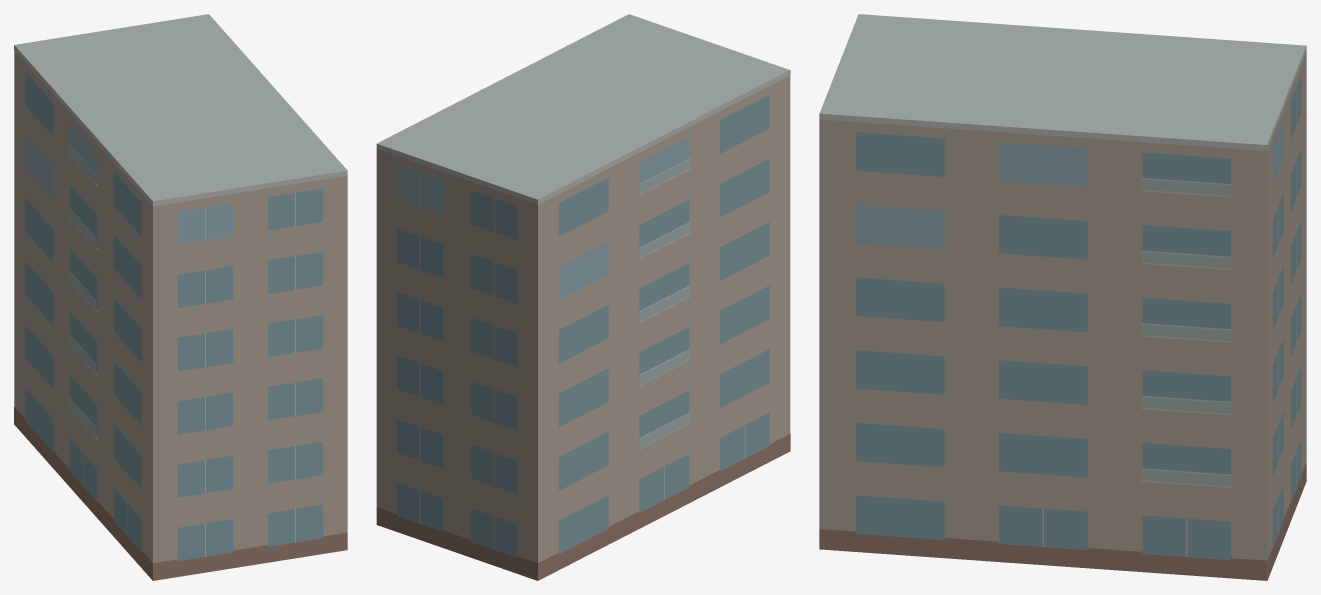
Rendered from survey-upis-32722423.glb.
The picture shows the model from 3 angles, left to right: view 1: azimuth 30°, elevation 25°; view 2: azimuth 150°, elevation 25°; view 3: azimuth 270°, elevation 25°; orthographic projection. The views are drawn at different scales.
Visible parts, largest first — view 1: survey-upis-32722423.tmp; view 2: survey-upis-32722423.tmp; view 3: survey-upis-32722423.tmp.
Part boxes in pixels (x1,y1,x2,y2): survey-upis-32722423.tmp: [14, 14, 347, 580]; survey-upis-32722423.tmp: [376, 14, 790, 580]; survey-upis-32722423.tmp: [819, 14, 1306, 580].
Size of the model in its own units: 11.82 by 18.3 by 18.55.
